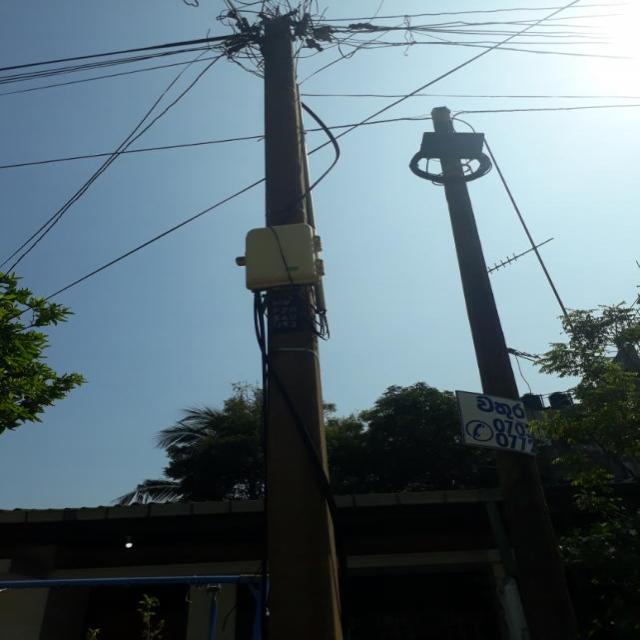light_pole: (405, 97, 589, 640), (246, 3, 351, 640), (62, 470, 66, 472)
